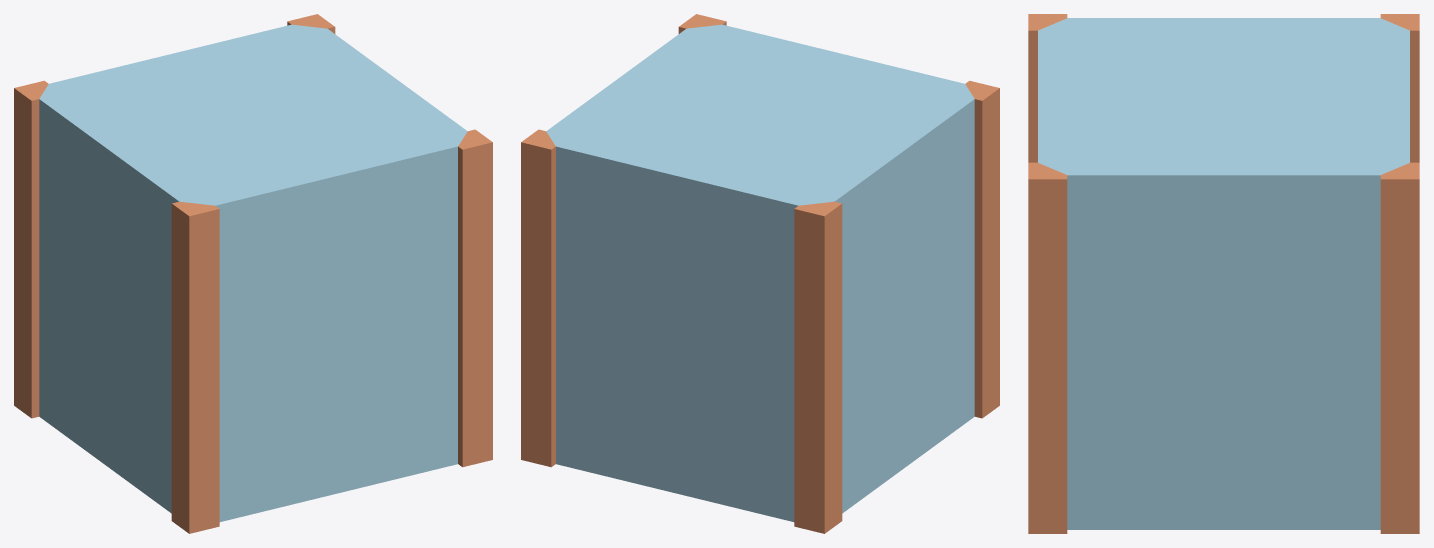
Rendered from wallBlock.fbx.
3 renders of one model, left to right at view 1: azimuth 30°, elevation 25°; view 2: azimuth 150°, elevation 25°; view 3: azimuth 270°, elevation 25°, orthographic. The views are drawn at different scales.
Parts seen in each view (by area): view 1: wallBlock; view 2: wallBlock; view 3: wallBlock.
Boxes of the visible parts, box(x1,y1,x2,y2) form: wallBlock: box(14, 14, 492, 533); wallBlock: box(521, 14, 999, 533); wallBlock: box(1028, 14, 1419, 533).
Size of the model in its own units: 10 by 10 by 10.
